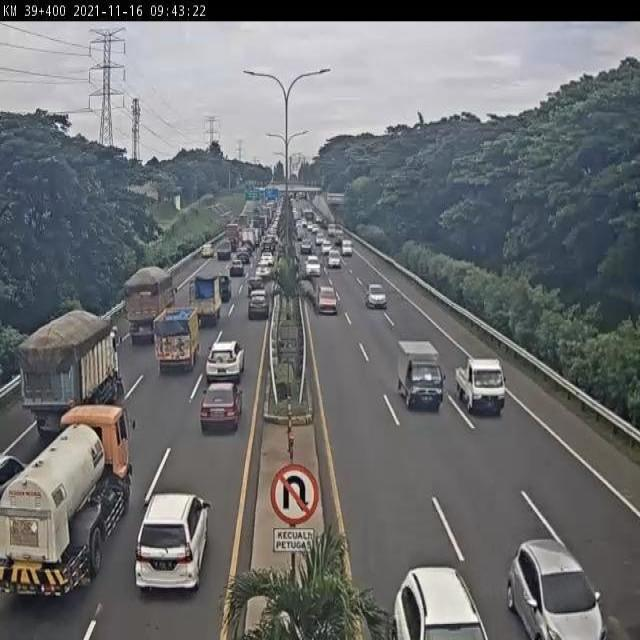Car: (506, 536, 608, 640), (134, 490, 211, 594), (388, 565, 488, 640), (198, 381, 245, 434), (205, 339, 245, 384), (0, 451, 30, 500), (248, 288, 270, 320), (316, 286, 338, 318), (366, 284, 388, 309), (247, 275, 264, 293), (306, 258, 321, 277), (255, 264, 271, 281), (236, 246, 251, 264), (230, 258, 244, 277), (327, 249, 340, 268), (260, 250, 274, 267), (341, 238, 353, 257), (200, 242, 214, 258), (300, 240, 312, 254), (320, 240, 332, 253), (316, 232, 326, 246), (311, 224, 319, 234), (306, 222, 314, 232)
Truck: (0, 403, 138, 604), (17, 306, 128, 438), (123, 264, 181, 346), (396, 338, 449, 413), (151, 305, 202, 372), (454, 356, 509, 416), (187, 274, 222, 325), (224, 222, 242, 252), (216, 239, 232, 261), (241, 227, 255, 251)
